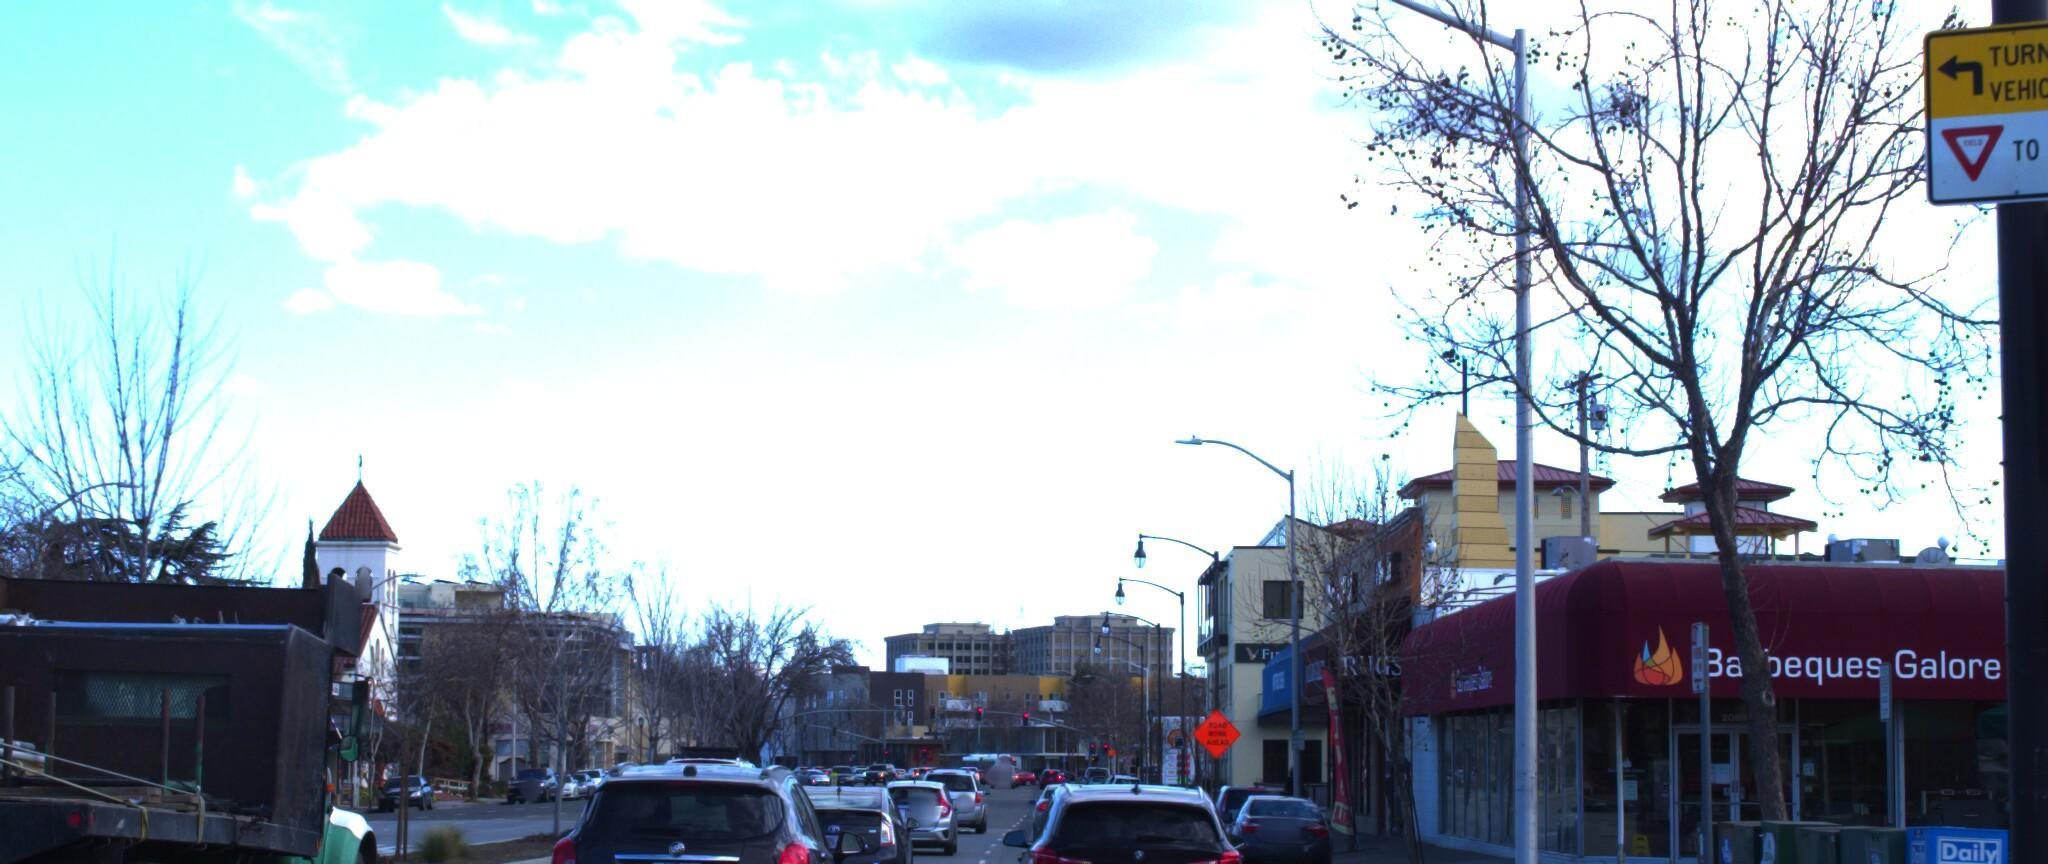bus: (0, 606, 158, 864)
car: (508, 743, 874, 864), (999, 756, 1259, 864), (763, 764, 920, 864), (1211, 770, 1334, 864), (874, 765, 965, 847), (935, 760, 1004, 833)
truck: (0, 469, 451, 864)
